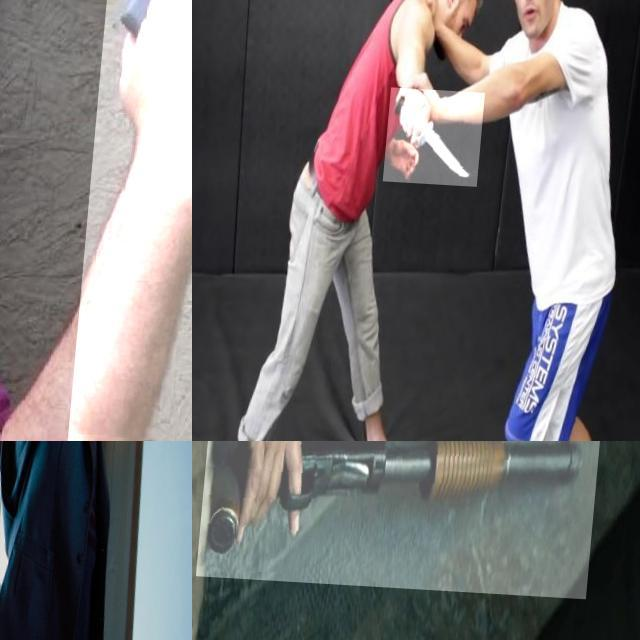-: (76, 0, 192, 441), (389, 84, 489, 182)
gun-knife-thesis - v11 Yolov5 augmented: (205, 441, 610, 593), (0, 441, 60, 523)
